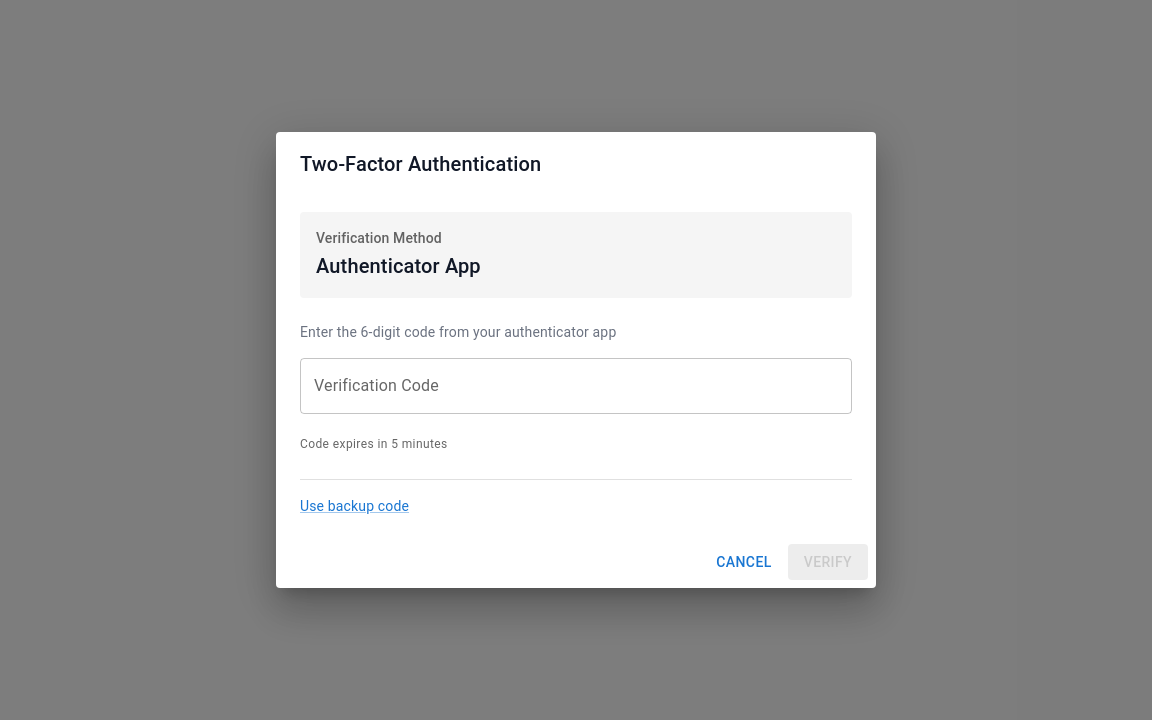
TwoFactorVerificationModal › Backup Code › should toggle to backup code input
Click the button "Use backup code" at (354, 506), box [300,496,409,516]
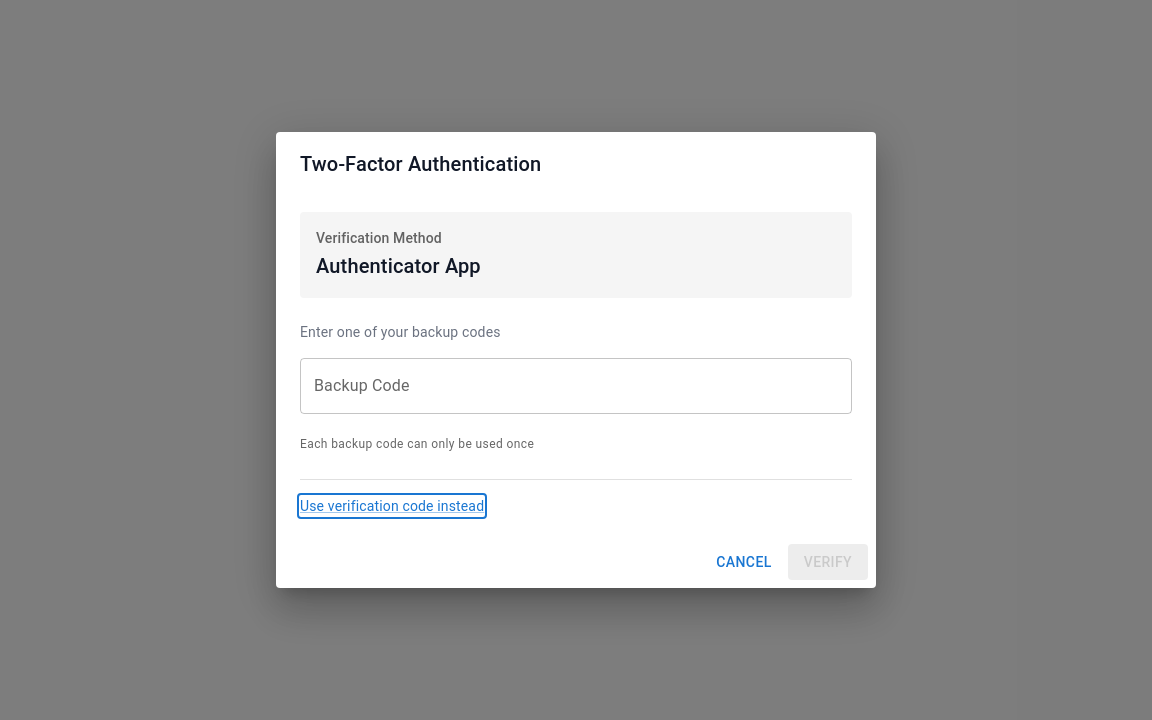
Now the field with placeholder "XXXX-XXXX-XXXX" is shown, box [300,358,852,414]
Now the button "Use verification code instead" is shown, box [300,496,484,516]
